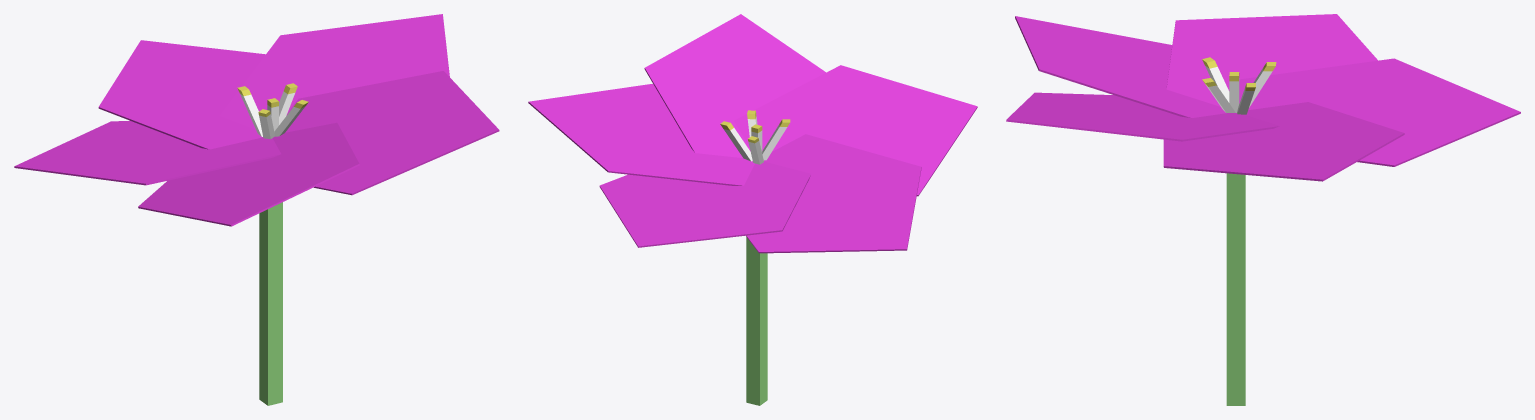
File: Azalea.fbx
3 renders of one model, left to right at view 1: azimuth 30°, elevation 25°; view 2: azimuth 150°, elevation 25°; view 3: azimuth 270°, elevation 25°, orthographic. The views are drawn at different scales.
Parts seen in each view (by area): view 1: Azalea; view 2: Azalea; view 3: Azalea.
Part boxes in pixels (x1,y1,x2,y2): Azalea: (14, 14, 499, 405); Azalea: (528, 14, 977, 405); Azalea: (1006, 14, 1520, 405).
Bounding box in the file's own units: 281 × 202 × 271.
